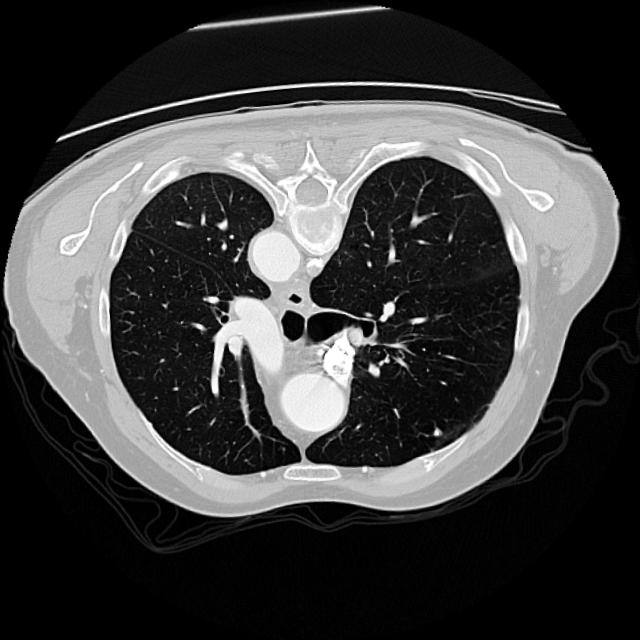nodule: (426, 422, 450, 446)
